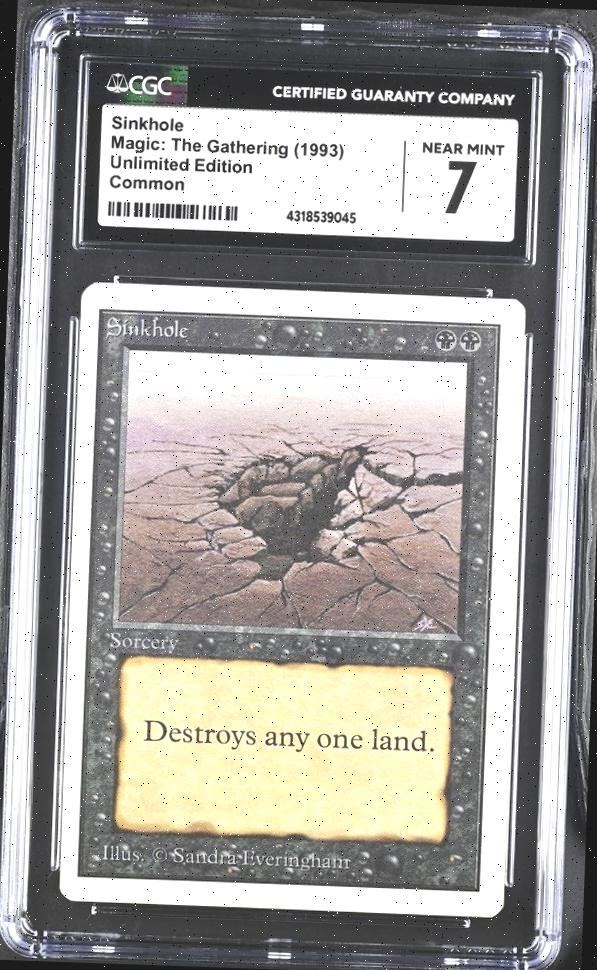card-2UtV: (58, 281, 526, 918)
